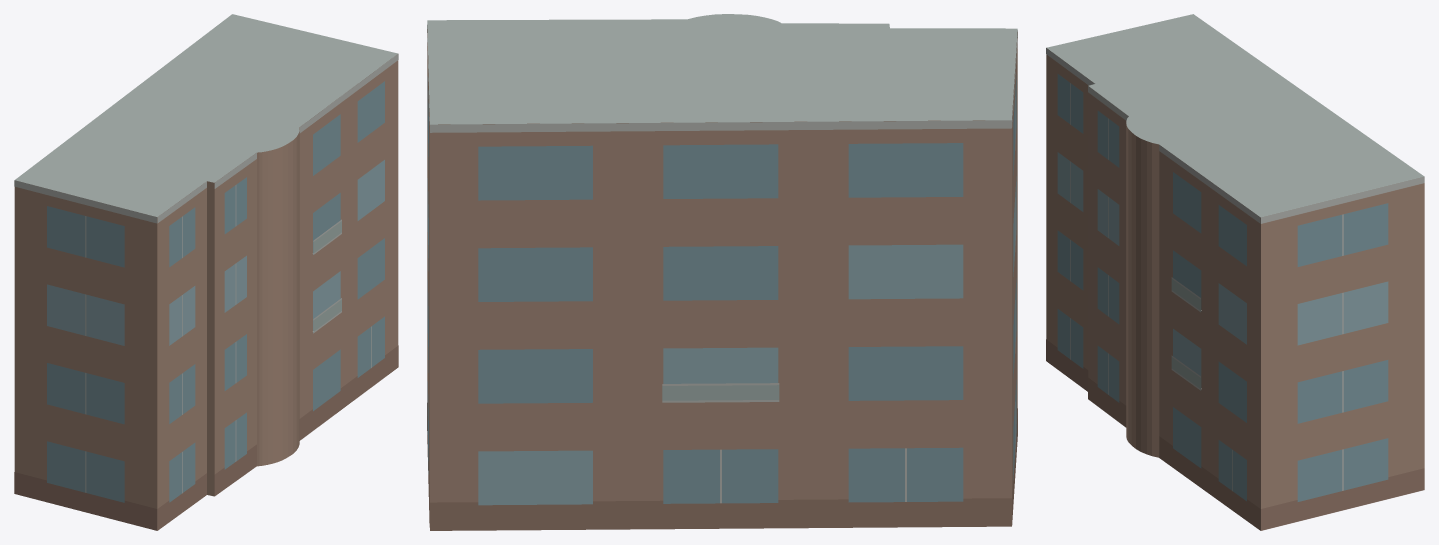
Rendered from survey-upis-32734166.glb.
3 renders of one model, left to right at view 1: azimuth 30°, elevation 25°; view 2: azimuth 150°, elevation 25°; view 3: azimuth 270°, elevation 25°, orthographic. The views are drawn at different scales.
Parts seen in each view (by area): view 1: survey-upis-32734166.tmp; view 2: survey-upis-32734166.tmp; view 3: survey-upis-32734166.tmp.
Part boxes in pixels (box(x1,y1,x2,y2)): survey-upis-32734166.tmp: box(14, 14, 398, 530); survey-upis-32734166.tmp: box(427, 14, 1017, 530); survey-upis-32734166.tmp: box(1046, 14, 1424, 530).
Bounding box in the file's own units: 16.59 × 11.9 × 13.03.
